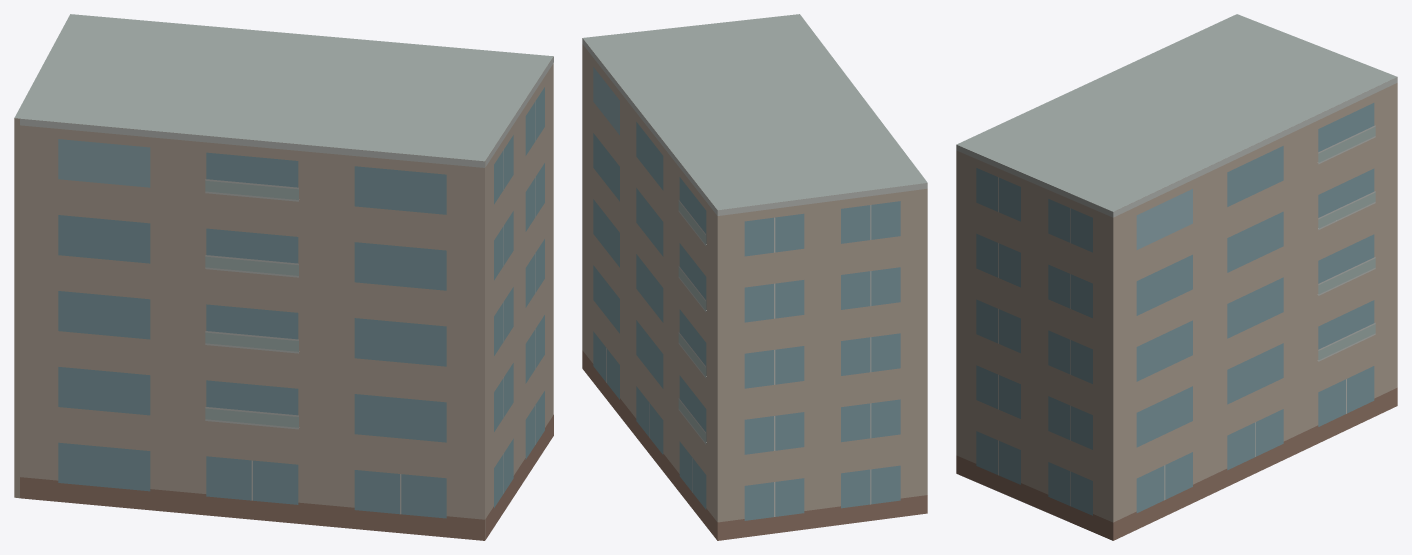
The model's file is survey-upis-32739741.glb.
The picture shows the model from 3 angles, left to right: view 1: azimuth 30°, elevation 25°; view 2: azimuth 150°, elevation 25°; view 3: azimuth 270°, elevation 25°; orthographic projection. The views are drawn at different scales.
Parts seen in each view (by area): view 1: survey-upis-32739741.tmp; view 2: survey-upis-32739741.tmp; view 3: survey-upis-32739741.tmp.
Part boxes in pixels (box(x1,y1,x2,y2)): survey-upis-32739741.tmp: box(14, 14, 553, 540); survey-upis-32739741.tmp: box(582, 14, 927, 540); survey-upis-32739741.tmp: box(956, 14, 1397, 540).
Bounding box in the file's own units: 17.94 × 13.9 × 16.91.
